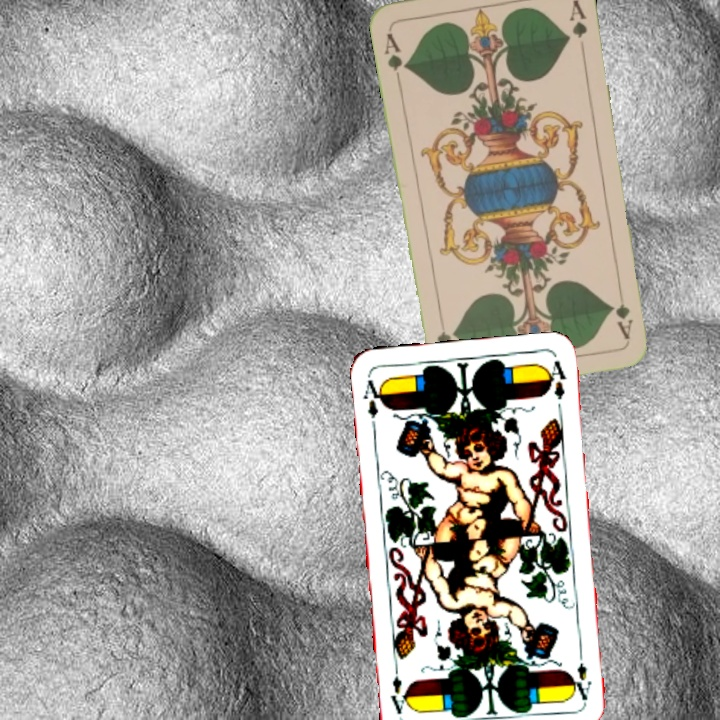EA: (359, 375, 387, 431), (569, 645, 594, 703)
GA: (380, 29, 410, 86), (611, 283, 636, 342)
